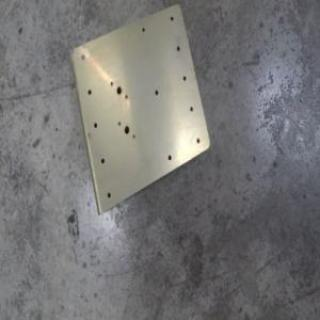MetalSheettrack_idkeyframe: (67, 1, 211, 218)
